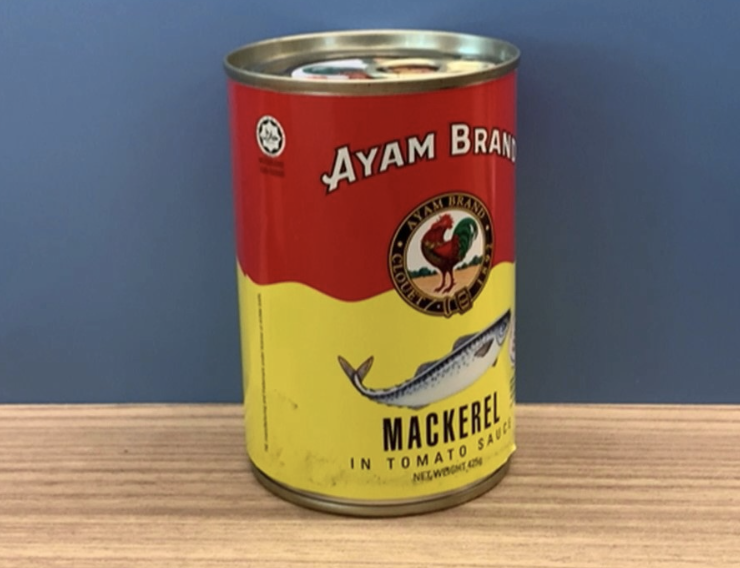sardines_400g-499g: (235, 59, 511, 489)
